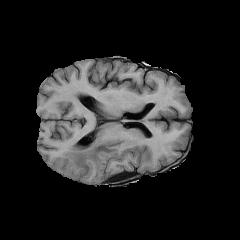glioma: (57, 137, 125, 172)
